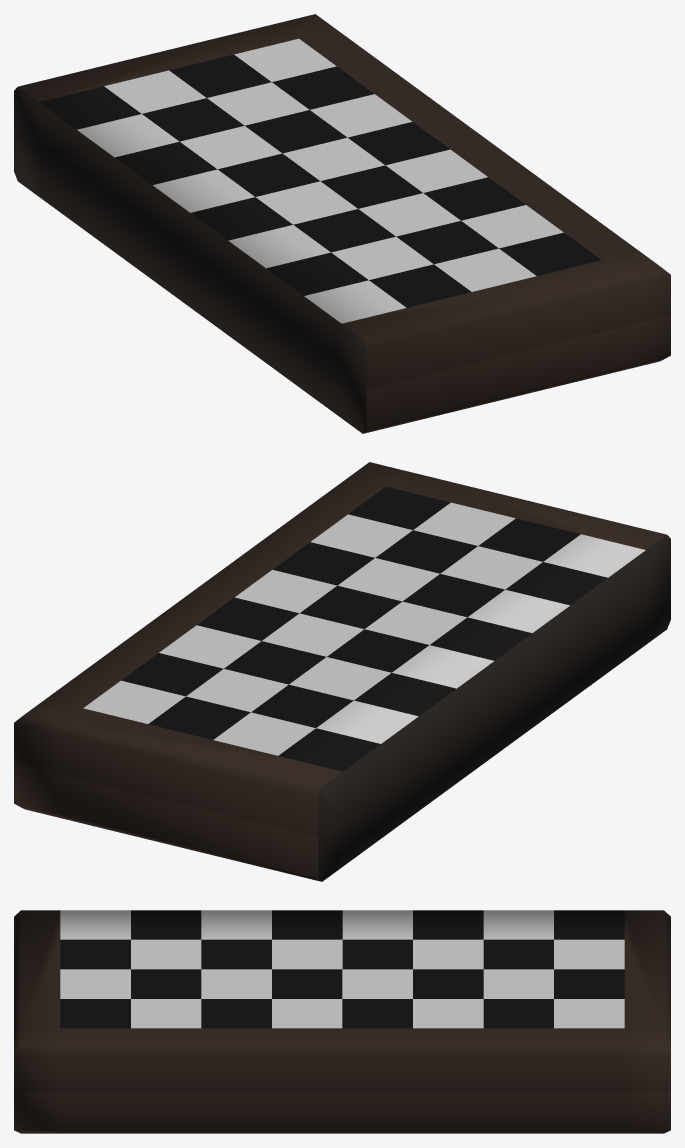
The model's file is PROP_Chess.fbx.
3 views of the same model, one above another, from view 1: azimuth 30°, elevation 25°; view 2: azimuth 150°, elevation 25°; view 3: azimuth 270°, elevation 25° (orthographic). The views are drawn at different scales.
Parts seen in each view (by area): view 1: Chess; view 2: Chess; view 3: Chess.
Part boxes in pixels (<box>): Chess: <box>14,14,670,433</box>; Chess: <box>14,462,670,881</box>; Chess: <box>14,910,670,1133</box>.
Bounding box in the file's own units: 0.1973 × 0.0587 × 0.3962.
